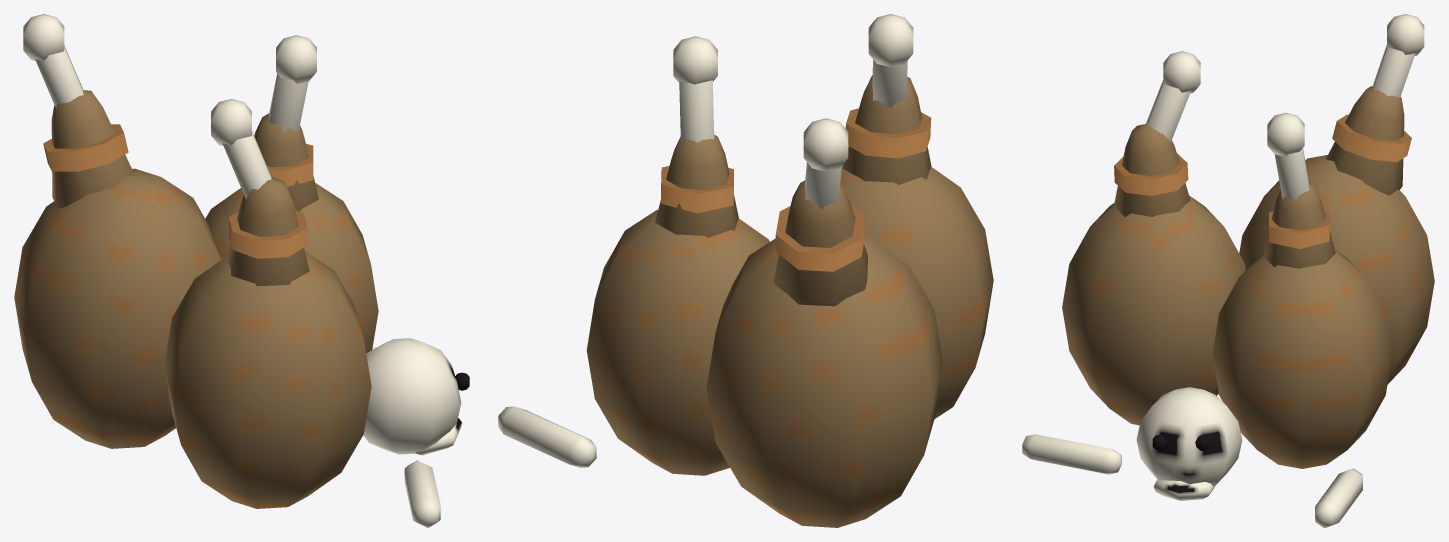
Rendered from prop_sacksundefined_2200.glb.
The picture shows the model from 3 angles, left to right: view 1: azimuth 30°, elevation 25°; view 2: azimuth 150°, elevation 25°; view 3: azimuth 270°, elevation 25°; orthographic projection. The views are drawn at different scales.
Parts seen in each view (by area): view 1: prop_sacksundefined_2200; view 2: prop_sacksundefined_2200; view 3: prop_sacksundefined_2200.
Boxes of the visible parts, left/top/right/bottom form: prop_sacksundefined_2200: left=14, top=14, right=469, bottom=527; prop_sacksundefined_2200: left=498, top=14, right=993, bottom=527; prop_sacksundefined_2200: left=1022, top=14, right=1434, bottom=527.
Size of the model in its own units: 1.15 by 1.11 by 1.13.
Materials: 1 (1 with a texture image).
